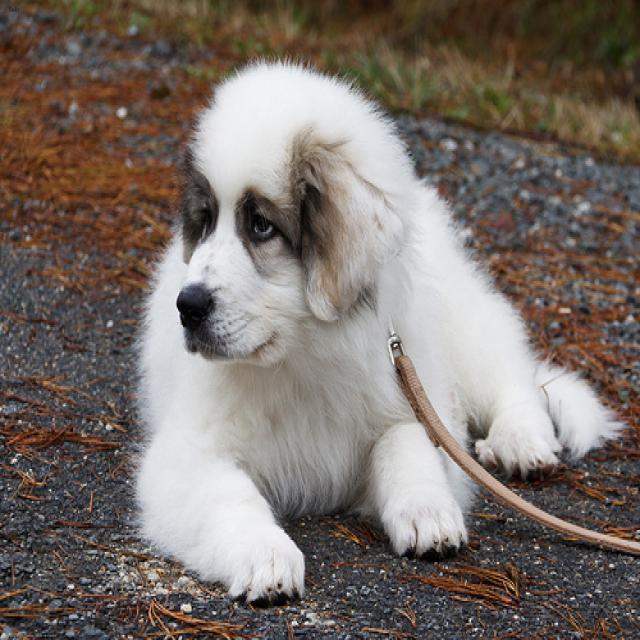dog-great_pyrenees: (125, 46, 628, 613)
